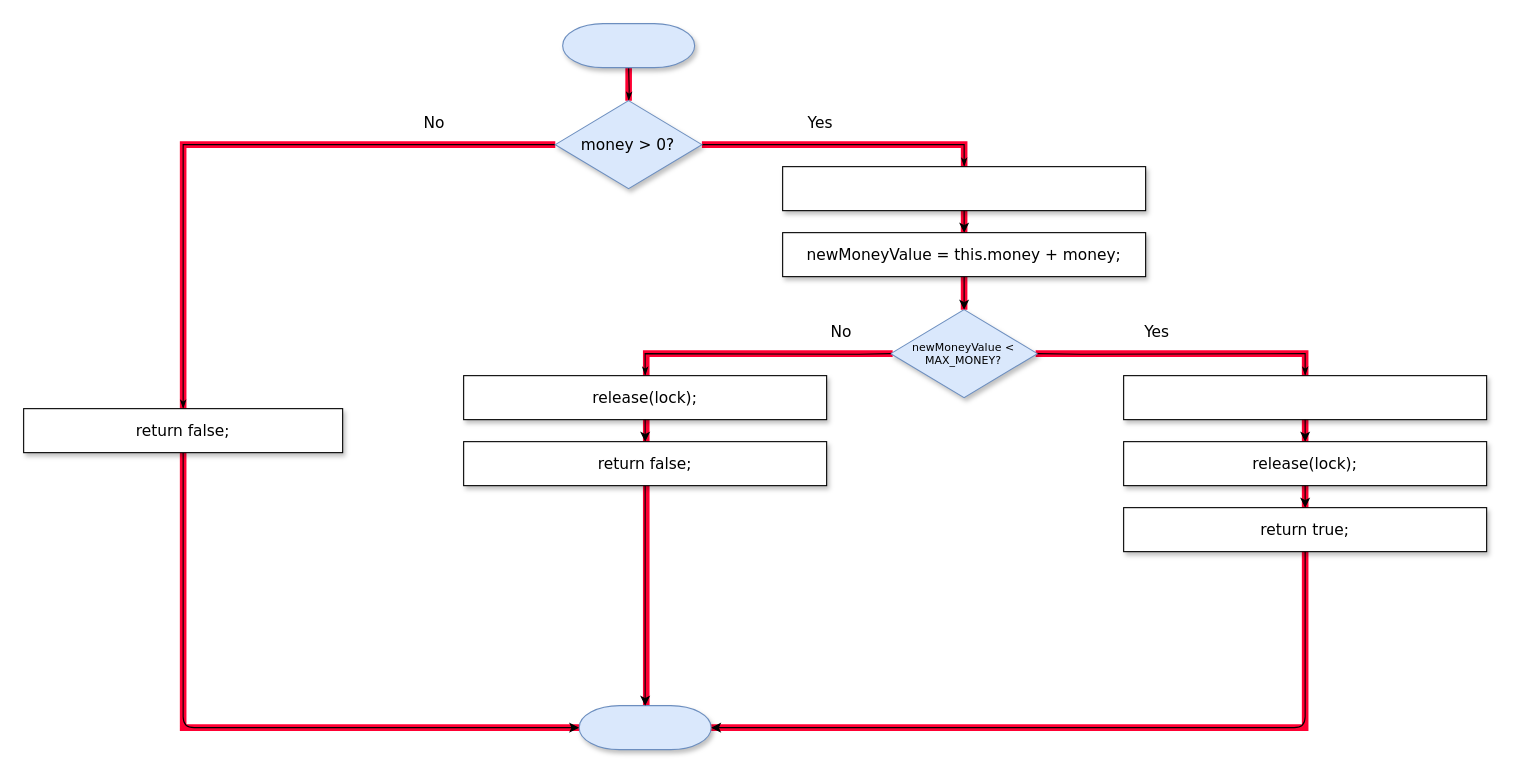
Image size: 1513x777. Some labels were removed from this diagram. The centre of each missing label's shape, as x and y in pixels:
"acquire(lock);" goes at point 964,189.
"End" goes at point 646,728.
"Start" goes at point 629,46.
"this.money = newMoneyValue;" goes at point 1305,398.
